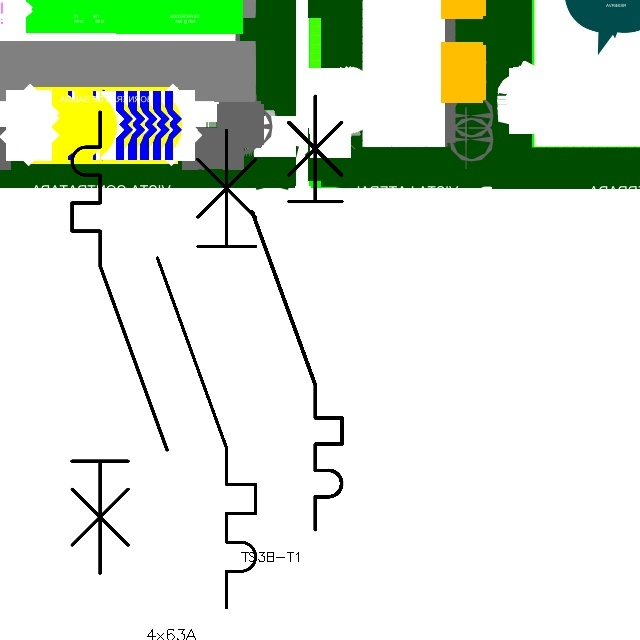interruptor_termomagnetico: (145, 118, 268, 620), (60, 100, 178, 585), (241, 85, 353, 541)
